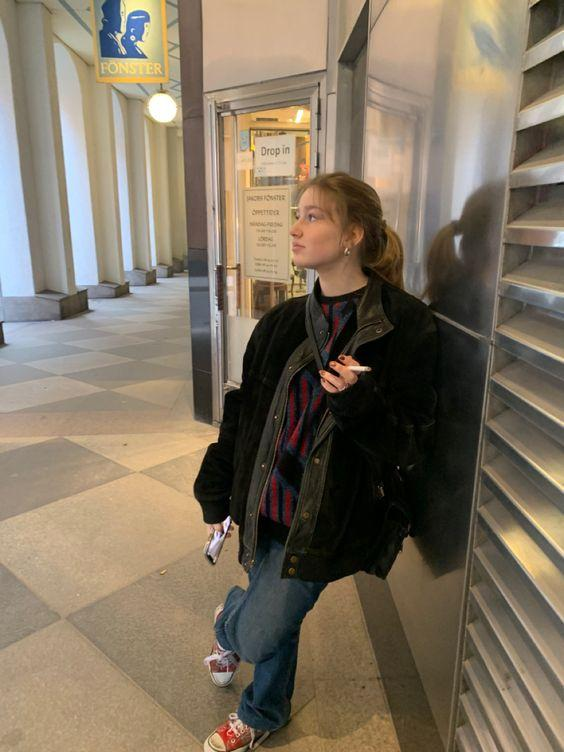cigarette: (345, 366, 373, 371)
